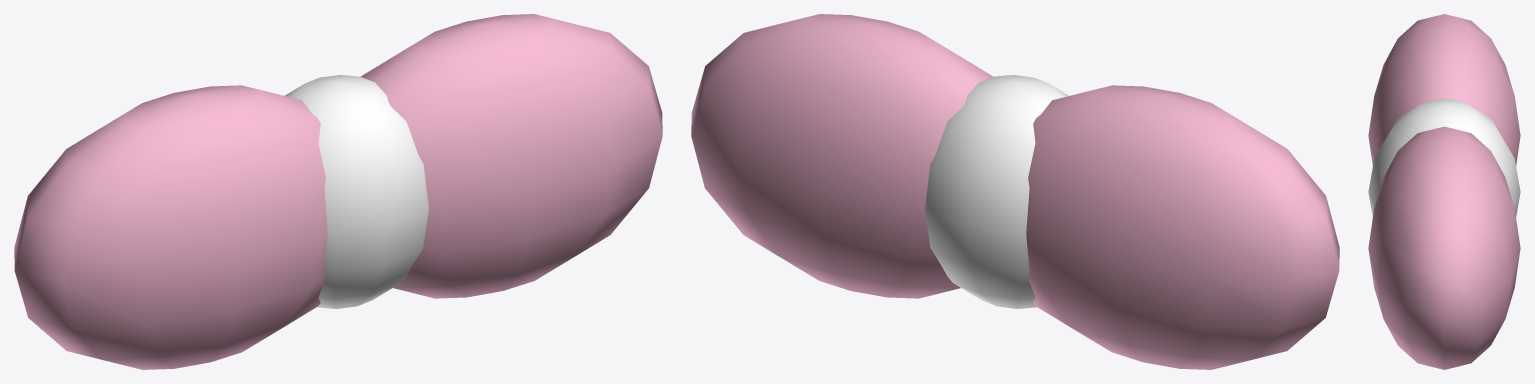
File: accessories-chibi-02.glb
The picture shows the model from 3 angles, left to right: view 1: azimuth 30°, elevation 25°; view 2: azimuth 150°, elevation 25°; view 3: azimuth 270°, elevation 25°; orthographic projection. The views are drawn at different scales.
Visible parts, largest first — view 1: part_0, part_1, part_2; view 2: part_0, part_1, part_2; view 3: part_1, part_0, part_2.
Part boxes in pixels (x1,y1,x2,y2): part_0: [14, 85, 327, 369]; part_1: [361, 14, 662, 298]; part_2: [285, 75, 428, 308]; part_0: [1026, 85, 1339, 369]; part_1: [691, 14, 992, 298]; part_2: [925, 75, 1068, 308]; part_1: [1368, 126, 1520, 369]; part_0: [1368, 14, 1520, 165]; part_2: [1368, 98, 1520, 216].
Bounding box in the file's own units: 0.62 × 0.24 × 0.16.
